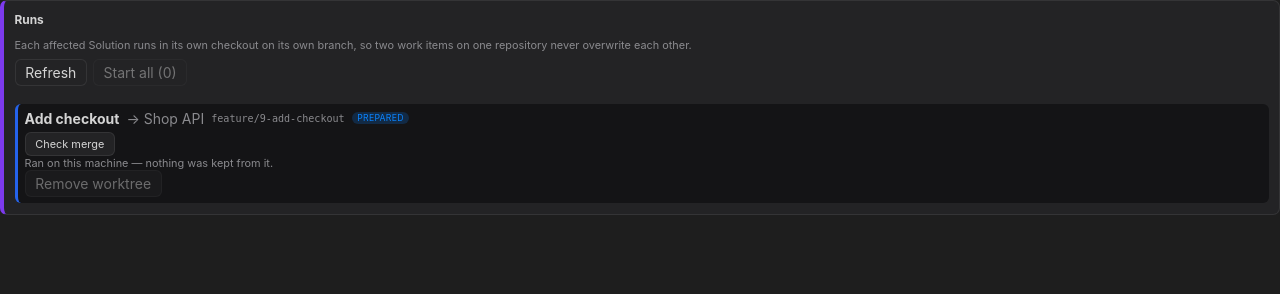
Test: RunsPanel › names the files that will conflict before merging
Click the button with aria-label "Check merge for Add checkout on Shop API" at [70, 144], box [24,132,115,156]
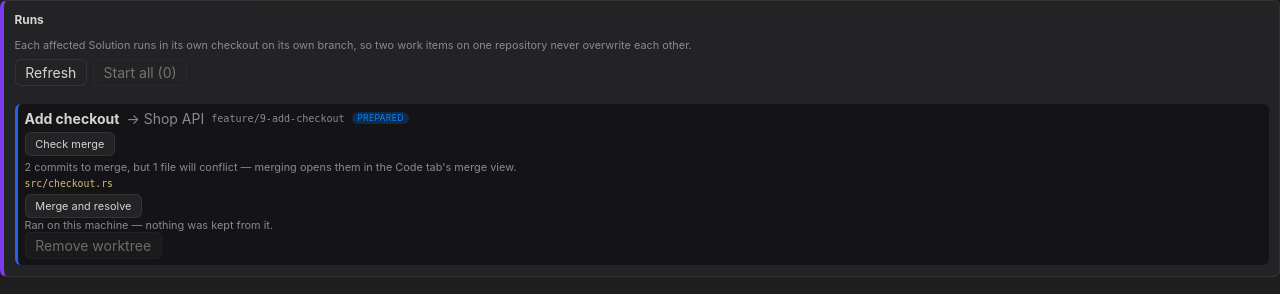
Result: the text "1 file will conflict" is shown at [24,160,516,174]
Result: the list item "src/checkout.rs" is shown at [24,178,113,190]
Result: the button with aria-label "Merge Add checkout on Shop API" reads "Merge and resolve" at [24,194,142,218]
